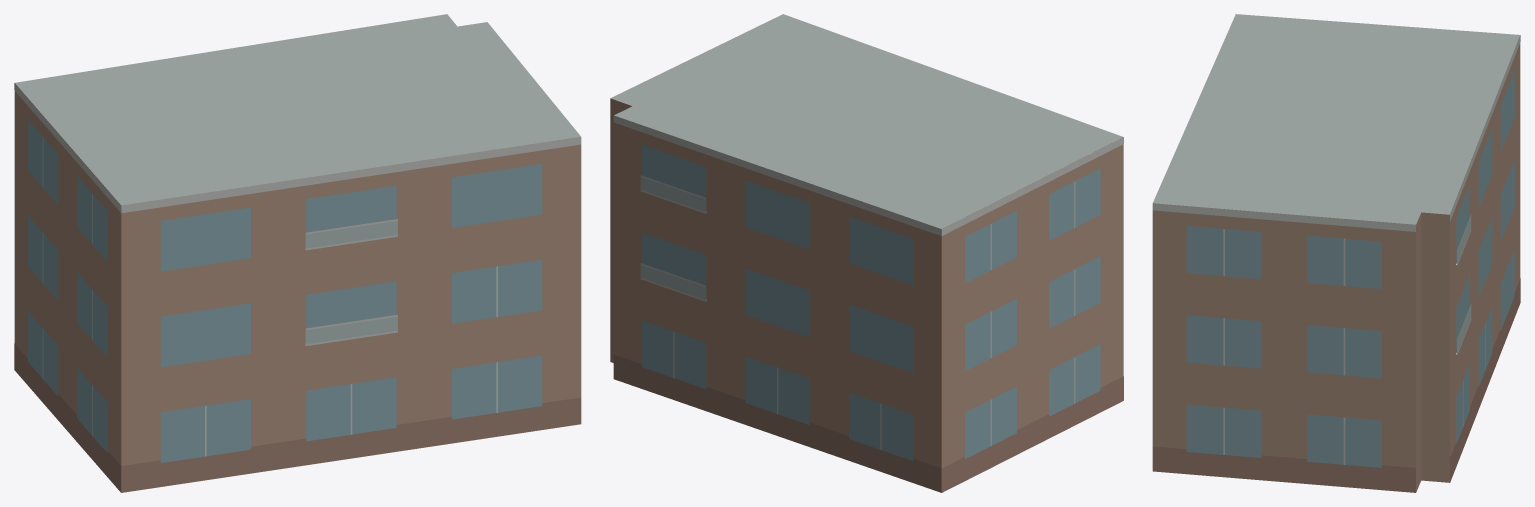
Rendered from survey-upis-32678769.glb.
3 renders of one model, left to right at view 1: azimuth 30°, elevation 25°; view 2: azimuth 150°, elevation 25°; view 3: azimuth 270°, elevation 25°, orthographic. The views are drawn at different scales.
Visible parts, largest first — view 1: survey-upis-32678769.tmp; view 2: survey-upis-32678769.tmp; view 3: survey-upis-32678769.tmp.
Part boxes in pixels (x1=…): survey-upis-32678769.tmp: x1=14, y1=14, x2=581, y2=492; survey-upis-32678769.tmp: x1=610, y1=14, x2=1123, y2=492; survey-upis-32678769.tmp: x1=1152, y1=14, x2=1520, y2=492.
Bounding box in the file's own units: 15.35 × 9.1 × 11.32.
